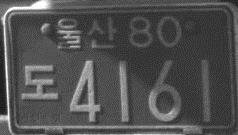0: (156, 14, 181, 50)
1: (198, 57, 215, 124), (117, 59, 132, 124)
4: (67, 59, 102, 121)
6: (146, 58, 183, 121)
8: (127, 16, 154, 48)
도: (20, 62, 60, 102)
울산_O: (54, 14, 117, 51)
